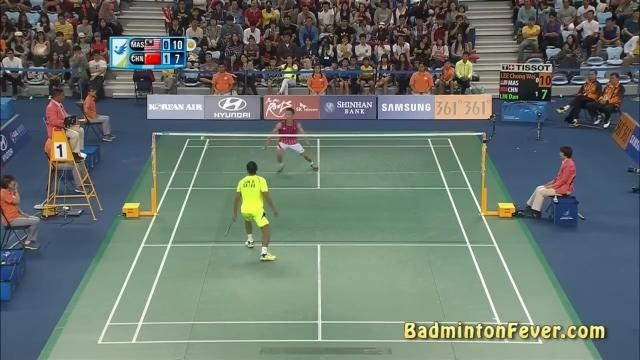Shuttlecock: (200, 134, 207, 142)
